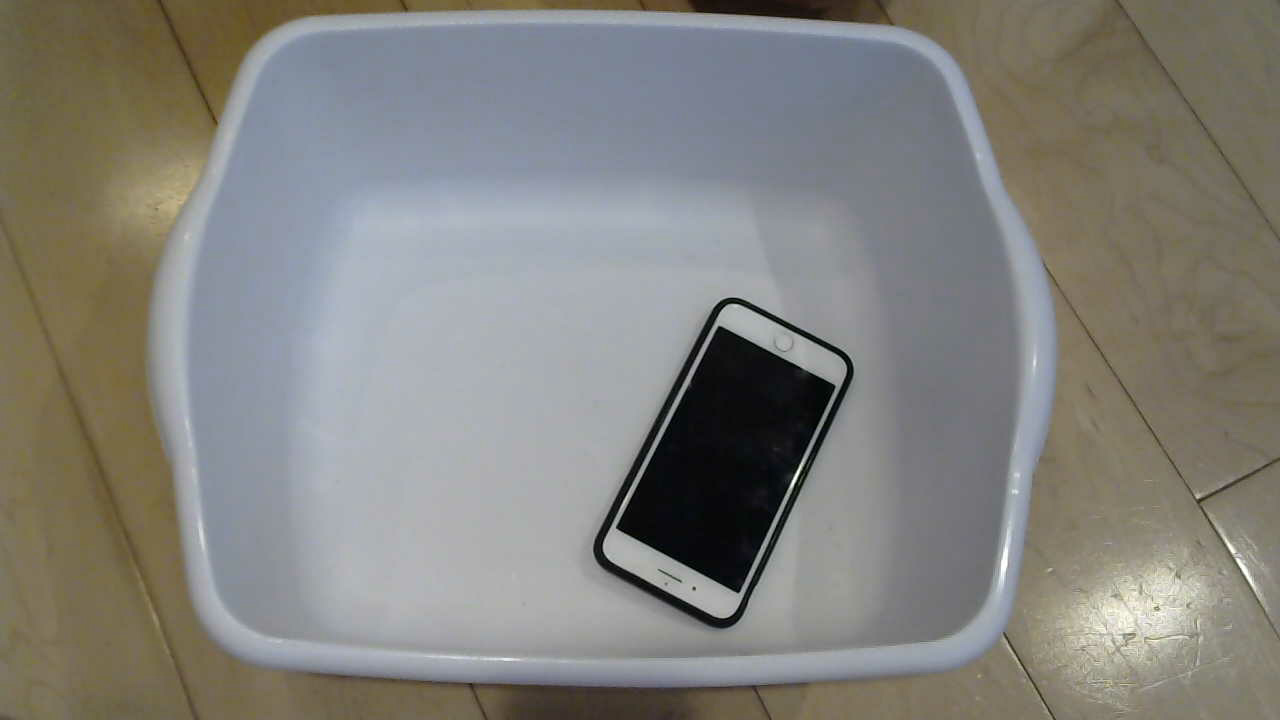phone: (586, 297, 865, 631)
